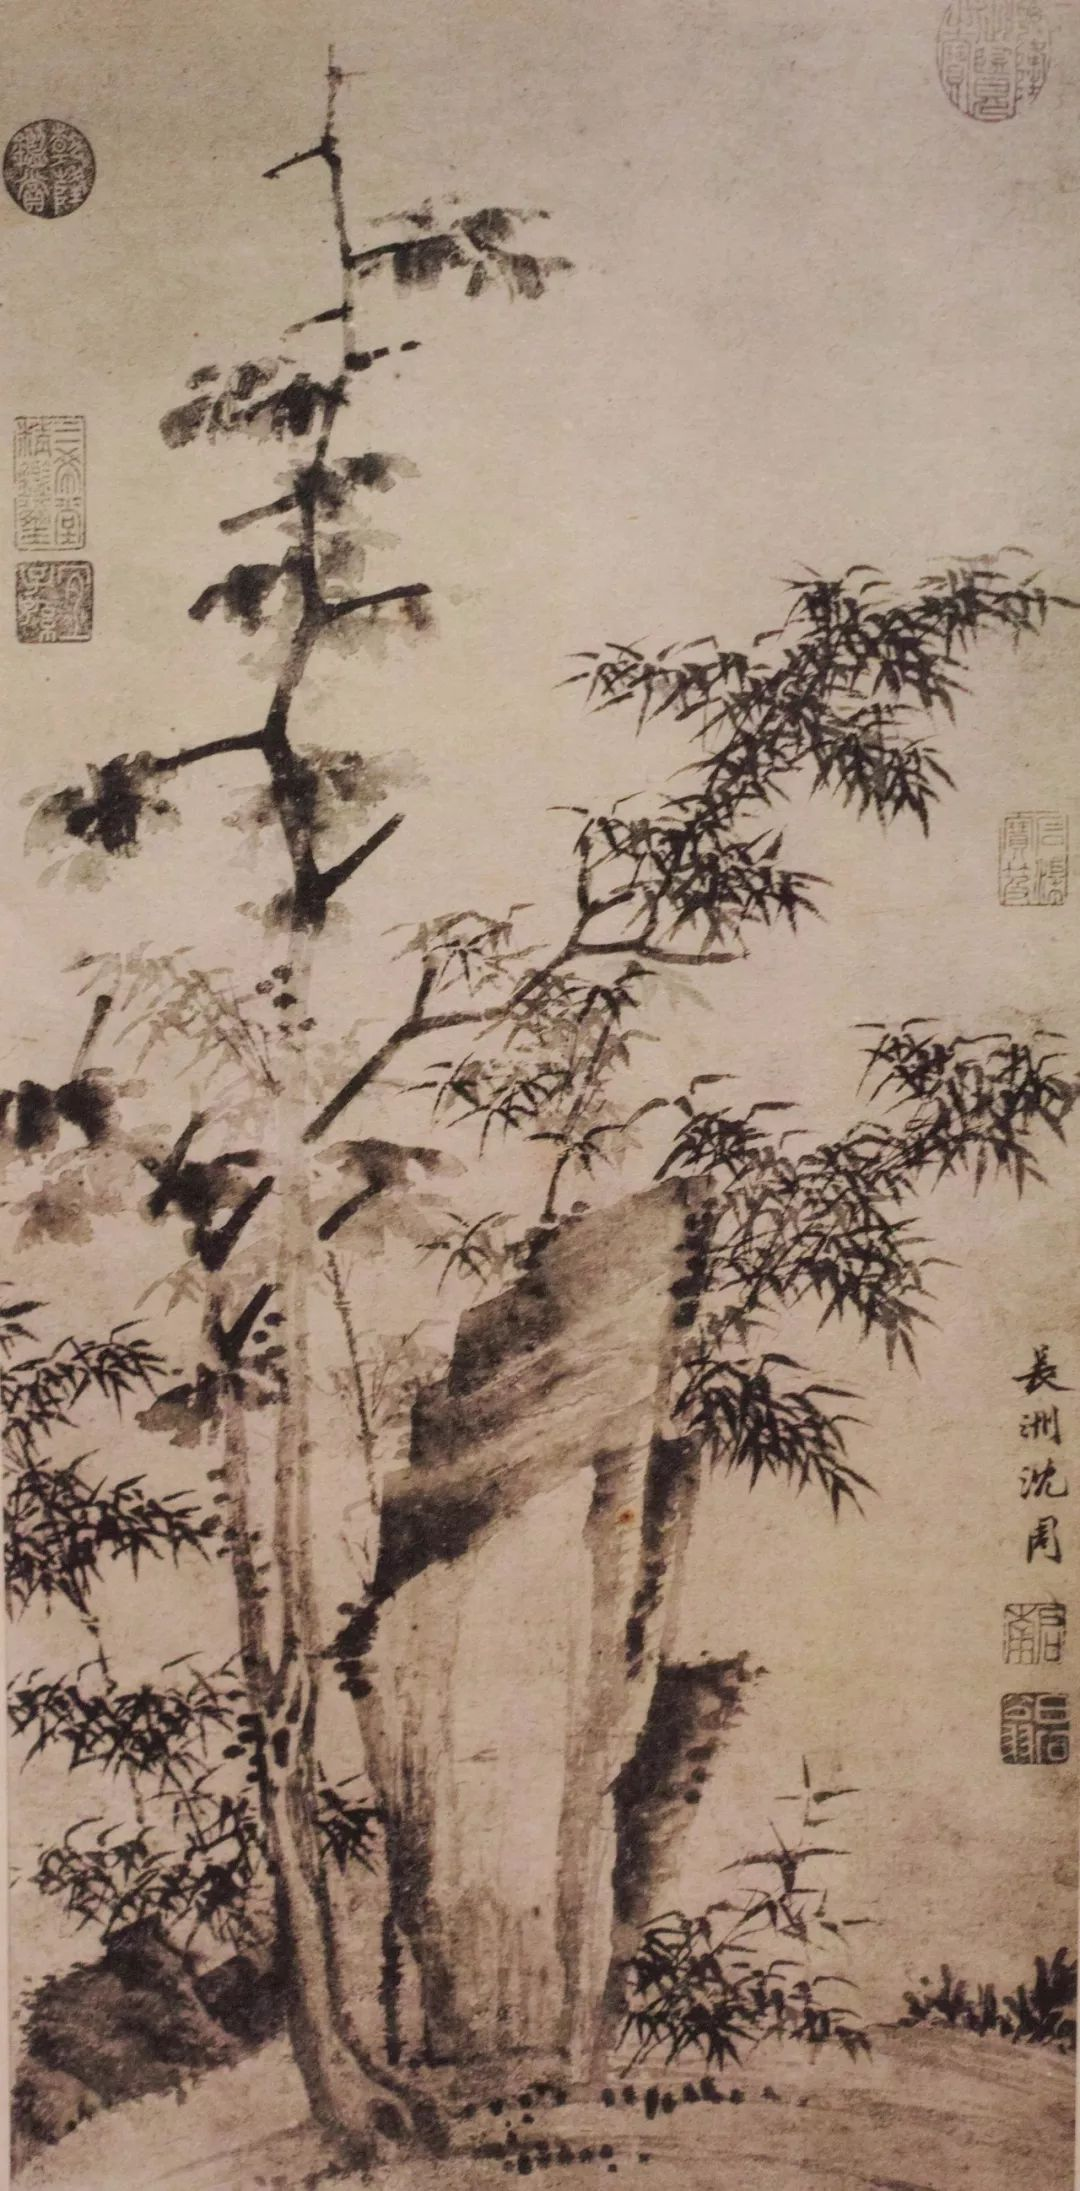bamboo: (643, 655, 953, 808), (687, 1143, 891, 1362), (592, 813, 813, 954), (54, 1804, 256, 1948), (645, 1932, 849, 2060), (513, 947, 611, 1178), (15, 1485, 225, 1587), (808, 585, 1076, 662), (898, 1049, 1080, 1157), (432, 926, 506, 1149), (706, 1388, 863, 1487), (18, 1682, 219, 1759), (85, 1329, 173, 1402), (792, 1770, 834, 1913), (4, 1336, 68, 1418), (718, 1858, 794, 1927), (75, 1611, 117, 1685)
grass: (942, 1959, 1080, 2046)
hill: (407, 1397, 634, 2055), (488, 1230, 673, 1385), (606, 1198, 685, 1237)
tree: (253, 1080, 326, 1756), (278, 1825, 393, 2150), (54, 725, 321, 824), (222, 566, 485, 650), (353, 198, 553, 300), (279, 68, 369, 278), (191, 355, 366, 449), (232, 481, 432, 559), (313, 1013, 414, 1122), (298, 841, 355, 980)
